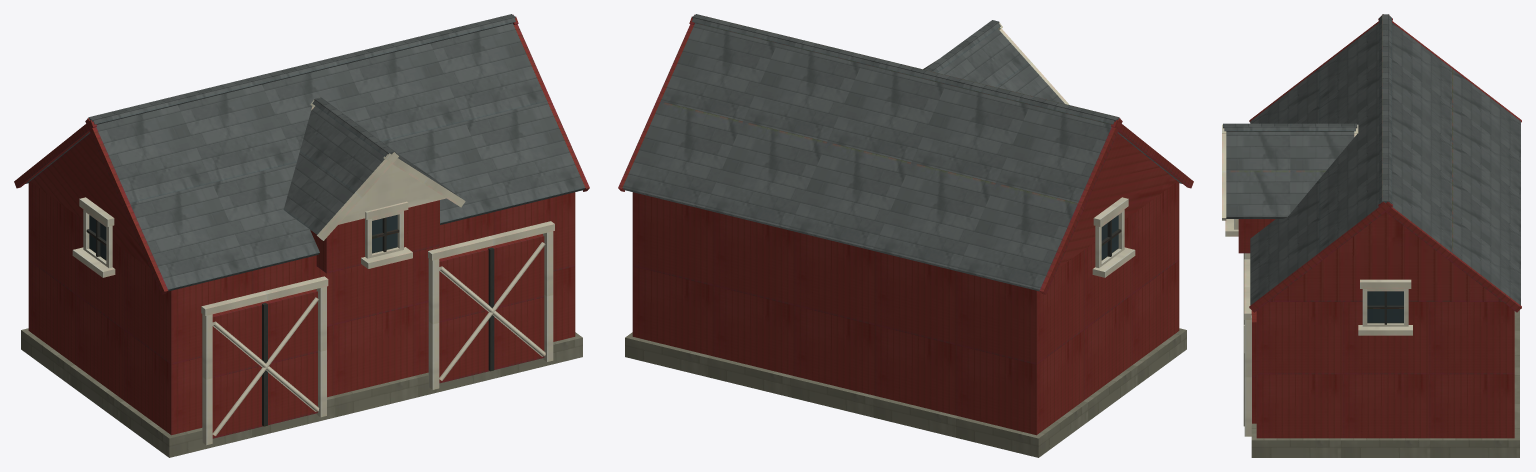
File: country-barn-lod.glb
3 views of the same model, side by side, from view 1: azimuth 30°, elevation 25°; view 2: azimuth 150°, elevation 25°; view 3: azimuth 270°, elevation 25° (orthographic). The views are drawn at different scales.
Visible parts, largest first — view 1: country-barn.001; view 2: country-barn.001; view 3: country-barn.001.
Part boxes in pixels (bbox=[...]): country-barn.001: bbox=[14, 14, 589, 457]; country-barn.001: bbox=[618, 14, 1193, 457]; country-barn.001: bbox=[1222, 14, 1521, 457].
Size of the model in its own units: 9 by 5.75 by 6.03.
1 material, 1 textured.
